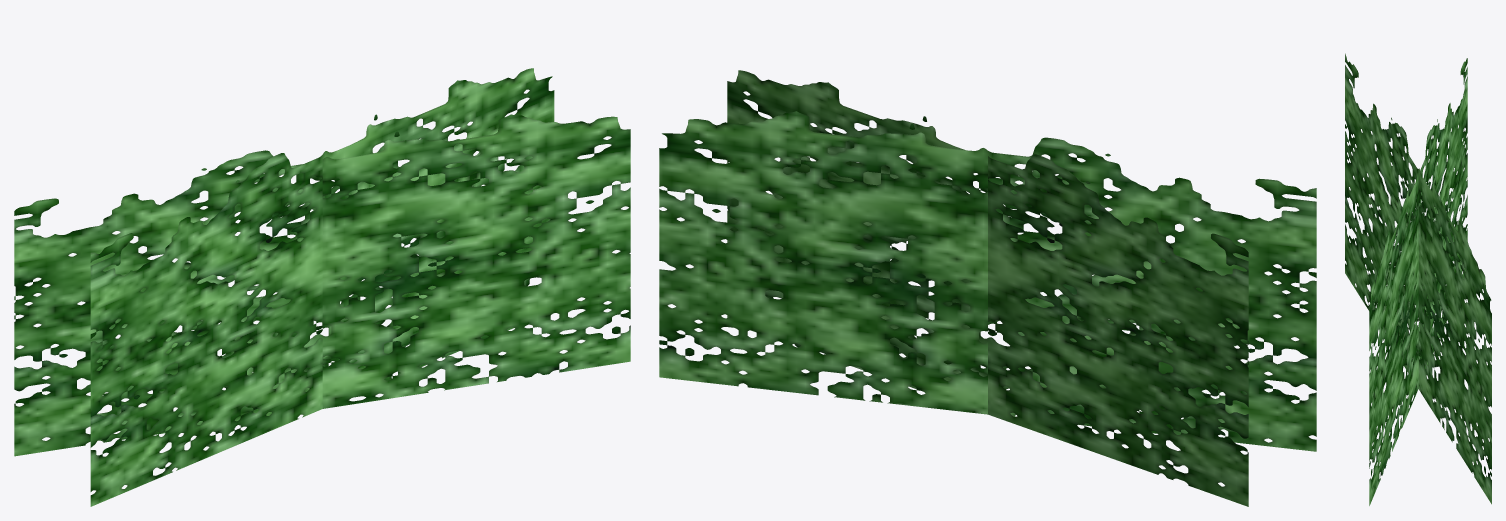
The model's file is bush_long_overgrown_spring.fbx.
3 renders of one model, left to right at view 1: azimuth 30°, elevation 25°; view 2: azimuth 150°, elevation 25°; view 3: azimuth 270°, elevation 25°, orthographic. The views are drawn at different scales.
Parts seen in each view (by area): view 1: bush_long_overgrown_spring; view 2: bush_long_overgrown_spring; view 3: bush_long_overgrown_spring.
Part boxes in pixels (x1,y1,x2,y2): bush_long_overgrown_spring: (14,68,630,506); bush_long_overgrown_spring: (659,70,1316,506); bush_long_overgrown_spring: (1345,53,1491,505).
Bounding box in the file's own units: 209 × 106 × 54.93.
Materials: 1 (1 with a texture image).
